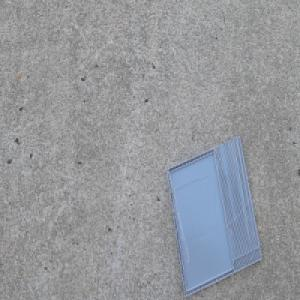PlasticPart: (165, 134, 262, 294)
